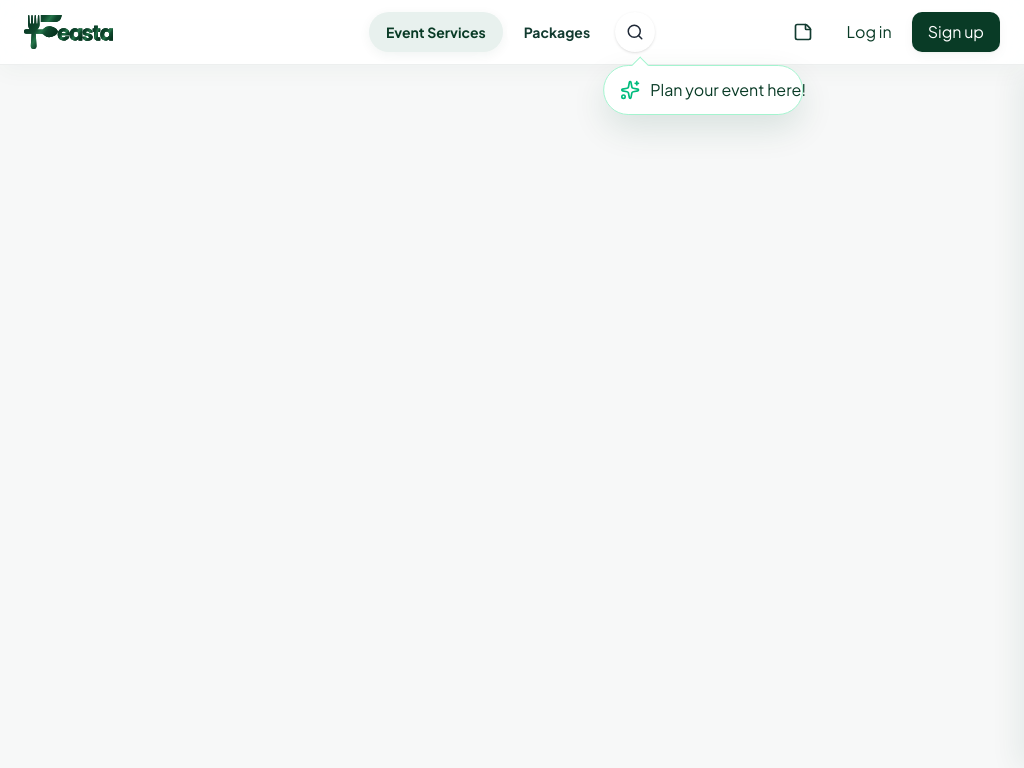
Test: customer marketplace header › displays the FEASTA finder hint below search and opens the existing finder
Note: Clicking the bubble opens the finder and hides the bubble.
Click the button "Plan your event here!": (703, 90) x1=603 y1=65 x2=803 y2=115
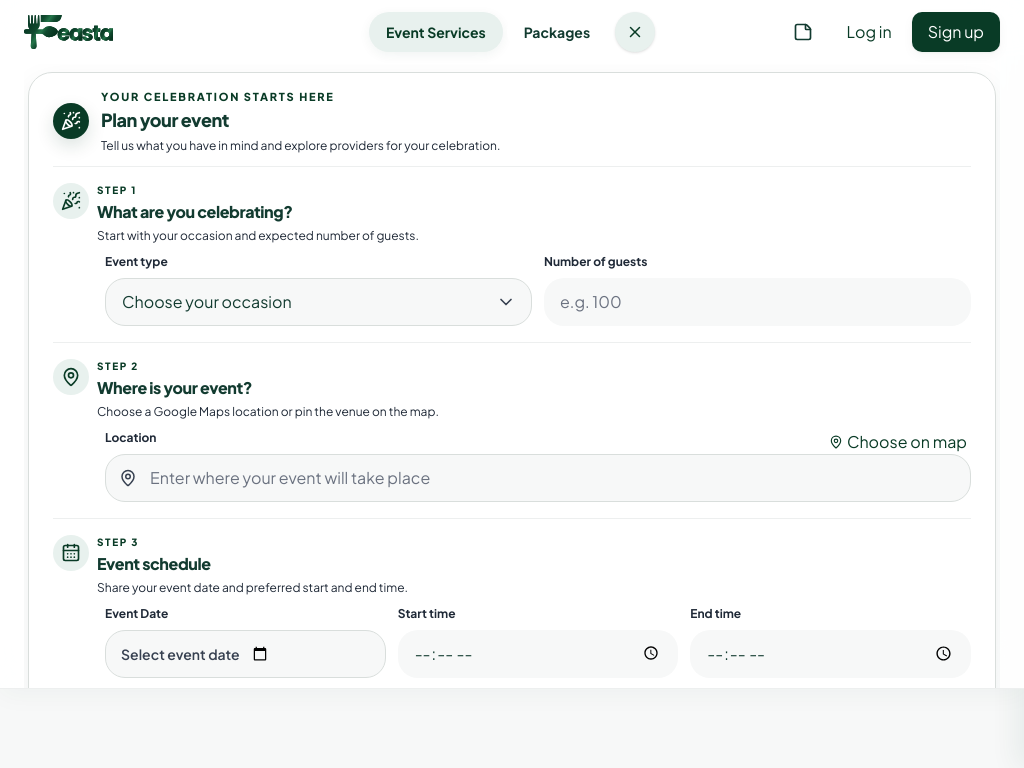
Check: the button "Plan your event here!" is gone
Note: Clicking X closes the finder and restores the bubble.
Click the button named "Close Event Finder": (635, 32) x1=615 y1=12 x2=655 y2=52
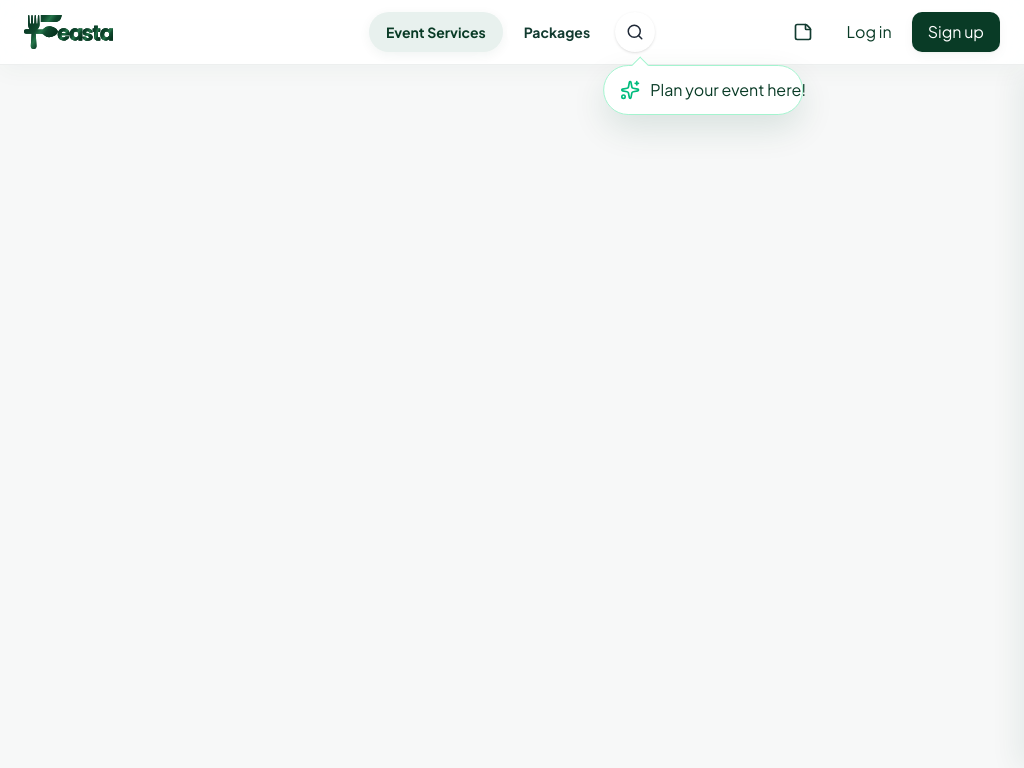
Check: the button "Plan your event here!" is shown, box x1=603 y1=65 x2=803 y2=115
Note: Clicking the search icon also hides the bubble.
Click the button named "Open Event Finder": (635, 32) x1=615 y1=12 x2=655 y2=52
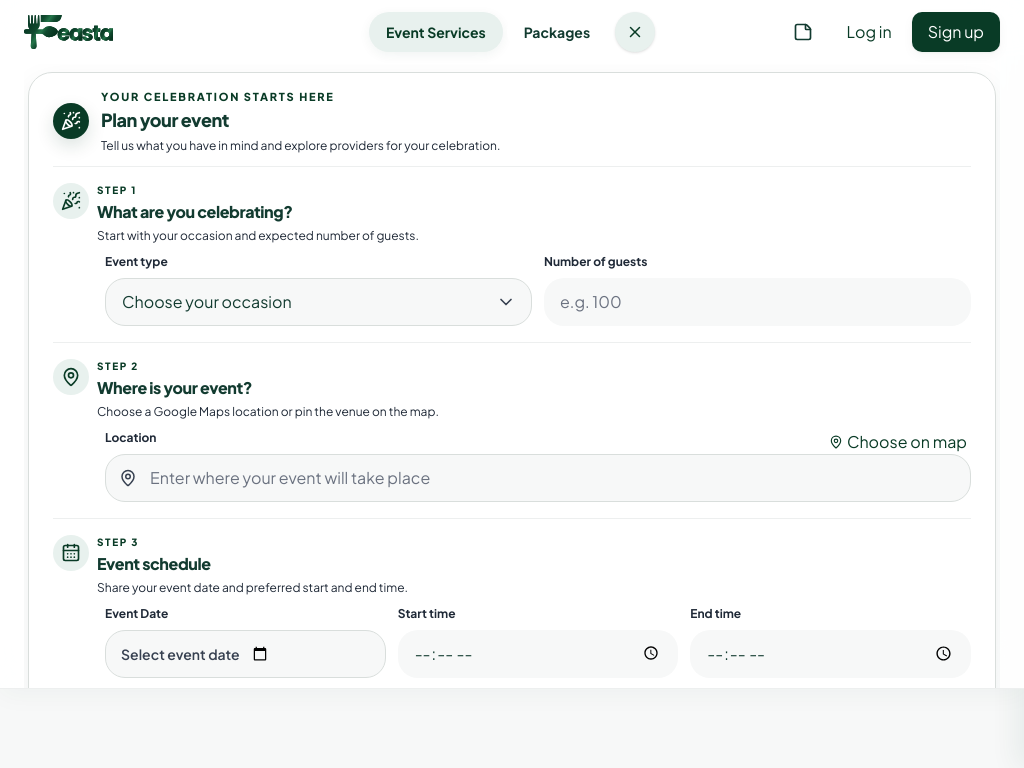
Check: the button "Plan your event here!" is gone
Note: Closing through the search icon restores it again.
Click the button named "Close Event Finder": (635, 32) x1=615 y1=12 x2=655 y2=52
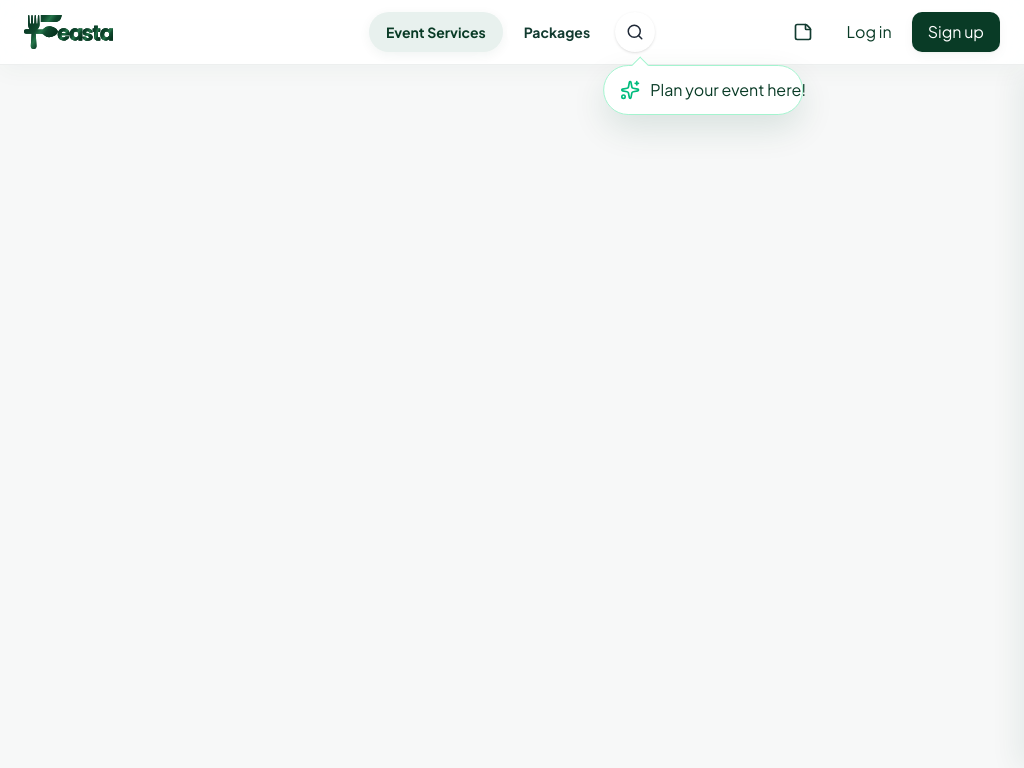
Check: the button "Plan your event here!" is shown, box x1=603 y1=65 x2=803 y2=115
